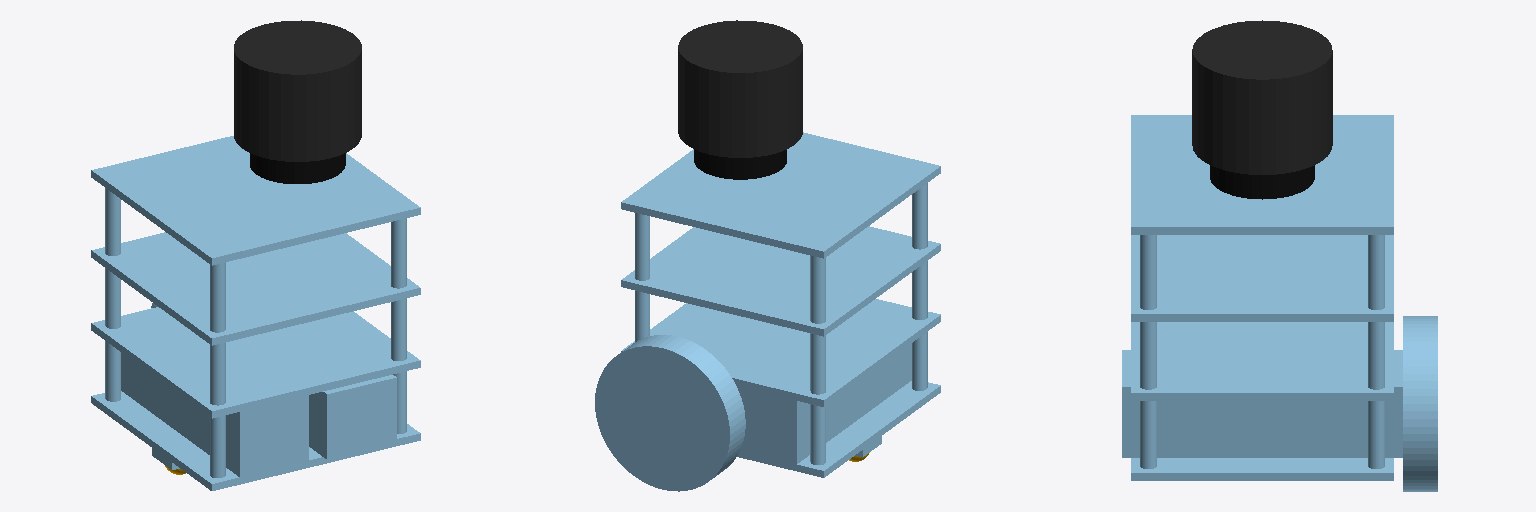
robot.urdf — ict_bot:
<?xml version="1.0" ?>
<robot name="ict_bot">

  <!-- ========== BASE FOOTPRINT (Required by Nav2) ========== -->
  <link name="base_footprint"/>

  <!-- base_link alias so Nav2 nodes that default to "base_link" can find it -->
  <link name="base_link"/>
  <joint name="base_link_joint" type="fixed">
    <origin xyz="0 0 0" rpy="0 0 0"/>
    <parent link="base_footprint"/>
    <child link="base_link"/>
  </joint>

  <joint name="base_footprint_joint" type="fixed">
    <origin xyz="0 0 0" rpy="0 0 1.5708"/>
    <parent link="base_footprint"/>
    <child link="link_base"/>
  </joint>

  <!-- ========== BASE LINK ========== -->
  <link name="link_base">
    <inertial>
      <origin xyz="0 0.00199645 0.0477406" rpy="0 0 0"/>
      <mass value="0.861322"/>
      <inertia ixx="0.00312801" ixy="0" ixz="-0"
               iyy="0.00352738" iyz="3.96227e-05"
               izz="0.00305315"/>
    </inertial>
    <!-- Base body -->
    <visual>
      <origin xyz="-0 0.00157143 0" rpy="0 -0 0"/>
      <geometry>
        <mesh filename="package://ict_bot_nav/urdf/assets/link_base.stl"/>
      </geometry>
      <material name="link_base_material">
        <color rgba="0.615686 0.811765 0.929412 1"/>
      </material>
    </visual>
    <collision>
      <origin xyz="-0 0.00157143 0" rpy="0 -0 0"/>
      <geometry>
        <mesh filename="package://ict_bot_nav/urdf/assets/link_base.stl"/>
      </geometry>
    </collision>
    <!-- Caster wheel (part of base) -->
    <visual>
      <origin xyz="-0 0.0565714 -0.0125" rpy="-0 -1.5708 0"/>
      <geometry>
        <mesh filename="package://ict_bot_nav/urdf/assets/link_caster_wheel.stl"/>
      </geometry>
      <material name="link_caster_wheel_material">
        <color rgba="0.980392 0.713725 0.00392157 1"/>
      </material>
    </visual>
    <collision>
      <origin xyz="-0 0.0565714 -0.0125" rpy="-0 -1.5708 0"/>
      <geometry>
        <mesh filename="package://ict_bot_nav/urdf/assets/link_caster_wheel.stl"/>
      </geometry>
    </collision>
  </link>

  <!-- ========== LEFT WHEEL ========== -->
  <link name="link_left_wheel">
    <inertial>
      <origin xyz="0 0 0.01" rpy="0 0 0"/>
      <mass value="0.172788"/>
      <inertia ixx="0.000113752" ixy="0" ixz="-0"
               iyy="0.000113752" iyz="0"
               izz="0.000215984"/>
    </inertial>
    <visual>
      <origin xyz="0 -0 0.01" rpy="-1.5708 -1.5708 0"/>
      <geometry>
        <mesh filename="package://ict_bot_nav/urdf/assets/link_left_wheel.stl"/>
      </geometry>
      <material name="link_left_wheel_material">
        <color rgba="0.615686 0.811765 0.929412 1"/>
      </material>
    </visual>
    <collision>
      <origin xyz="0 -0 0.01" rpy="-1.5708 -1.5708 0"/>
      <geometry>
        <mesh filename="package://ict_bot_nav/urdf/assets/link_left_wheel.stl"/>
      </geometry>
    </collision>
  </link>

  <joint name="left_wheel_joint" type="continuous">
    <origin xyz="0.08 -0.0284286 0.0275" rpy="-1.5708 -4.5e-11 -1.5708"/>
    <parent link="link_base"/>
    <child link="link_left_wheel"/>
    <axis xyz="0 0 1"/>
    <limit effort="10" velocity="10"/>
  </joint>

  <!-- ========== RIGHT WHEEL ========== -->
  <link name="link_right_wheel">
    <inertial>
      <origin xyz="0 0 -0.01" rpy="0 0 0"/>
      <mass value="0.172788"/>
      <inertia ixx="0.000113752" ixy="0" ixz="-0"
               iyy="0.000113752" iyz="0"
               izz="0.000215984"/>
    </inertial>
    <visual>
      <origin xyz="0 -0 -0.01" rpy="-1.5708 -1.5708 0"/>
      <geometry>
        <mesh filename="package://ict_bot_nav/urdf/assets/link_right_wheel.stl"/>
      </geometry>
      <material name="link_right_wheel_material">
        <color rgba="0.615686 0.811765 0.929412 1"/>
      </material>
    </visual>
    <collision>
      <origin xyz="0 -0 -0.01" rpy="-1.5708 -1.5708 0"/>
      <geometry>
        <mesh filename="package://ict_bot_nav/urdf/assets/link_right_wheel.stl"/>
      </geometry>
    </collision>
  </link>

  <joint name="right_wheel_joint" type="continuous">
    <origin xyz="-0.08 -0.0284286 0.0275" rpy="1.5708 -0 1.5708"/>
    <parent link="link_base"/>
    <child link="link_right_wheel"/>
    <axis xyz="0 0 1"/>
    <limit effort="10" velocity="10"/>
  </joint>

  <!-- ========== LIDAR ========== -->
  <link name="base_scan">
    <inertial>
      <origin xyz="0 0 0" rpy="0 0 0"/>
      <mass value="0.1"/>
      <inertia ixx="1e-05" ixy="0" ixz="0"
               iyy="1e-05" iyz="0"
               izz="1e-05"/>
    </inertial>
    <visual>
      <origin xyz="0 0 0" rpy="0 0 0"/>
      <geometry>
        <cylinder radius="0.03" length="0.02"/>
      </geometry>
      <material name="lidar_material">
        <color rgba="0.1 0.1 0.1 1"/>
      </material>
    </visual>
    <collision>
      <origin xyz="0 0 0" rpy="0 0 0"/>
      <geometry>
        <cylinder radius="0.03" length="0.02"/>
      </geometry>
    </collision>
  </link>

  <joint name="lidar_joint" type="fixed">
    <origin xyz="0 -0.0284286 0.18" rpy="0 0 0"/>
    <parent link="link_base"/>
    <child link="base_scan"/>
  </joint>


  <!-- ========== 3D LIDAR ========== -->
  <link name="lidar_3d">
    <inertial>
      <origin xyz="0 0 0" rpy="0 0 0"/>
      <mass value="0.1"/>
      <inertia ixx="1e-05" ixy="0" ixz="0"
               iyy="1e-05" iyz="0"
               izz="1e-05"/>
    </inertial>
    <visual>
      <origin xyz="0 0 0" rpy="0 0 0"/>
      <geometry>
        <cylinder radius="0.04" length="0.06"/>
      </geometry>
      <material name="lidar3d_material">
        <color rgba="0.2 0.2 0.2 1"/>
      </material>
    </visual>
    <collision>
      <origin xyz="0 0 0" rpy="0 0 0"/>
      <geometry>
        <cylinder radius="0.04" length="0.06"/>
      </geometry>
    </collision>
  </link>

  <joint name="lidar_3d_joint" type="fixed">
    <origin xyz="0 -0.0284286 0.22" rpy="0 0 0"/>
    <parent link="link_base"/>
    <child link="lidar_3d"/>
  </joint>


  <!-- ========== GAZEBO PLUGINS ========== -->

  <!-- Differential Drive Plugin -->
  <gazebo>
    <plugin name="diff_drive" filename="libgazebo_ros_diff_drive.so">
      <ros>
        <remapping>cmd_vel:=cmd_vel</remapping>
        <remapping>odom:=odom</remapping>
      </ros>
      <left_joint>left_wheel_joint</left_joint>
      <right_joint>right_wheel_joint</right_joint>
      <!-- Wheel separation from joint origins: 0.08 - (-0.08) = 0.16 -->
      <wheel_separation>0.16</wheel_separation>
      <!-- Wheel radius calculated from inertia: sqrt(2*izz/mass) = ~0.05 -->
      <wheel_diameter>0.10</wheel_diameter>
      <max_wheel_torque>10</max_wheel_torque>
      <max_wheel_acceleration>1.0</max_wheel_acceleration>
      <publish_odom>true</publish_odom>
      <publish_odom_tf>true</publish_odom_tf>
      <publish_wheel_tf>true</publish_wheel_tf>
      <odometry_frame>odom</odometry_frame>
      <robot_base_frame>base_footprint</robot_base_frame>
    </plugin>
  </gazebo>

  <!-- Caster wheel friction = 0 so it slides freely -->
  <gazebo reference="link_base">
    <mu1>0.0</mu1>
    <mu2>0.0</mu2>
  </gazebo>

  <!-- Wheel friction -->
  <gazebo reference="link_left_wheel">
    <mu1>1.0</mu1>
    <mu2>1.0</mu2>
  </gazebo>
  <gazebo reference="link_right_wheel">
    <mu1>1.0</mu1>
    <mu2>1.0</mu2>
  </gazebo>

  <!-- LiDAR Sensor Plugin -->
  <gazebo reference="base_scan">
    <sensor type="ray" name="lidar_sensor">
      <pose>0 0 0 0 0 0</pose>
      <visualize>true</visualize>
      <update_rate>10</update_rate>
      <ray>
        <scan>
          <horizontal>
            <samples>360</samples>
            <resolution>1</resolution>
            <min_angle>-3.14159</min_angle>
            <max_angle>3.14159</max_angle>
          </horizontal>
        </scan>
        <range>
          <min>0.12</min>
          <max>10.0</max>
          <resolution>0.01</resolution>
        </range>
        <noise>
          <type>gaussian</type>
          <mean>0.0</mean>
          <stddev>0.01</stddev>
        </noise>
      </ray>
      <plugin name="gazebo_ros_lidar" filename="libgazebo_ros_ray_sensor.so">
        <ros>
          <remapping>~/out:=scan</remapping>
        </ros>
        <output_type>sensor_msgs/LaserScan</output_type>
        <frame_name>base_scan</frame_name>
      </plugin>
    </sensor>
  </gazebo>

</robot>

--- What the picture shows (computed from the rendered views, not written in the file) ---
The picture shows the robot from 3 angles, left to right: view 1: azimuth 30°, elevation 25°; view 2: azimuth 150°, elevation 25°; view 3: azimuth 270°, elevation 25°; orthographic projection.
Model ict_bot with 7 links and 6 joints (2 continuous, 4 fixed), rooted at base_footprint, posed every joint at zero.
Links seen in each view (by area): view 1: link_base, lidar_3d, base_scan; view 2: link_base, link_left_wheel, lidar_3d, base_scan; view 3: link_base, lidar_3d, link_left_wheel, base_scan.
Boxes of the visible links, x1,y1,x2,y2 form: link_base: [91, 136, 420, 490]; lidar_3d: [234, 20, 361, 161]; base_scan: [250, 153, 345, 183]; link_base: [621, 132, 940, 477]; link_left_wheel: [595, 335, 745, 491]; lidar_3d: [678, 20, 802, 157]; base_scan: [694, 149, 786, 179]; link_base: [1122, 115, 1402, 480]; lidar_3d: [1192, 20, 1332, 174]; link_left_wheel: [1403, 316, 1437, 491]; base_scan: [1210, 165, 1314, 199].
Size in the robot's own frame: 0.155 by 0.18 by 0.2725 metres.
3 mesh visuals loaded from 4 distinct referenced files (3 binary STL); not drawn: 1 (reference not matched to a file when rendering).
